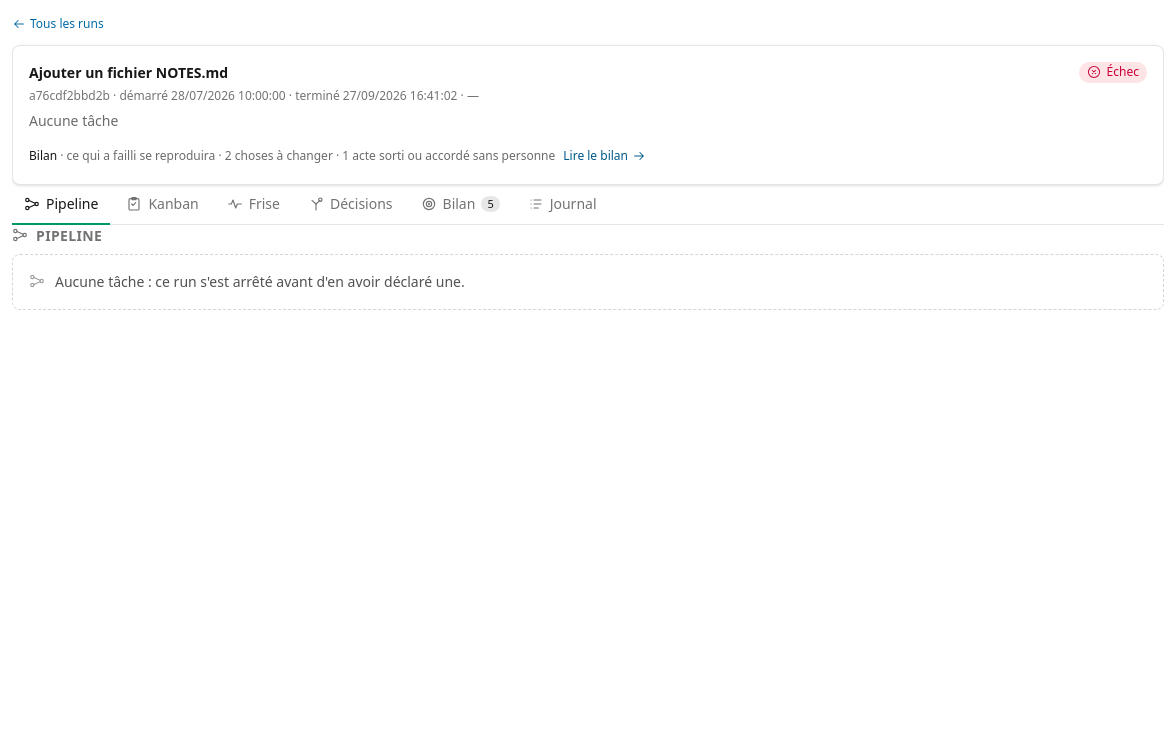
Test case: la tête d'un run soldé › mène à l'onglet du bilan, qui porte son compte, puis retire le renvoi
Click the button "Lire le bilan" at (605,156), box [563,144,646,168]
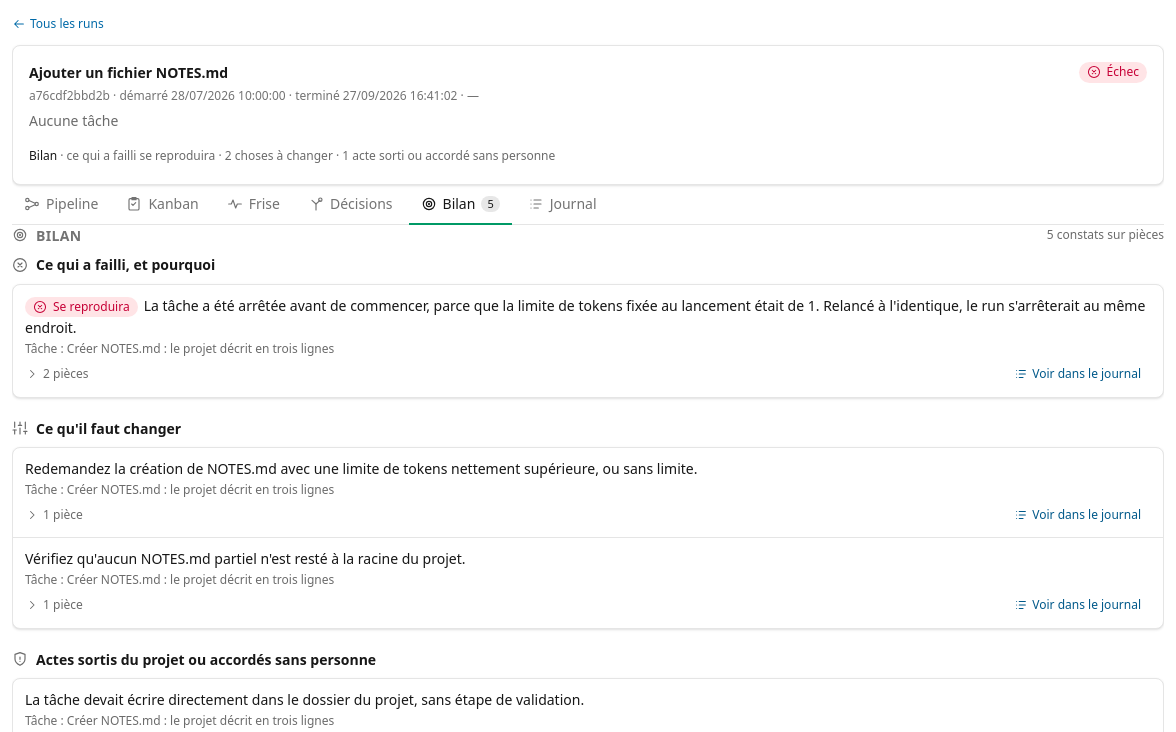
expect the button "Lire le bilan" is gone: met
Le pipeline reste la lecture d'ouverture : on y revient d'un onglet.
Click the button "Pipeline" at (61,205), box [12,185,110,225]
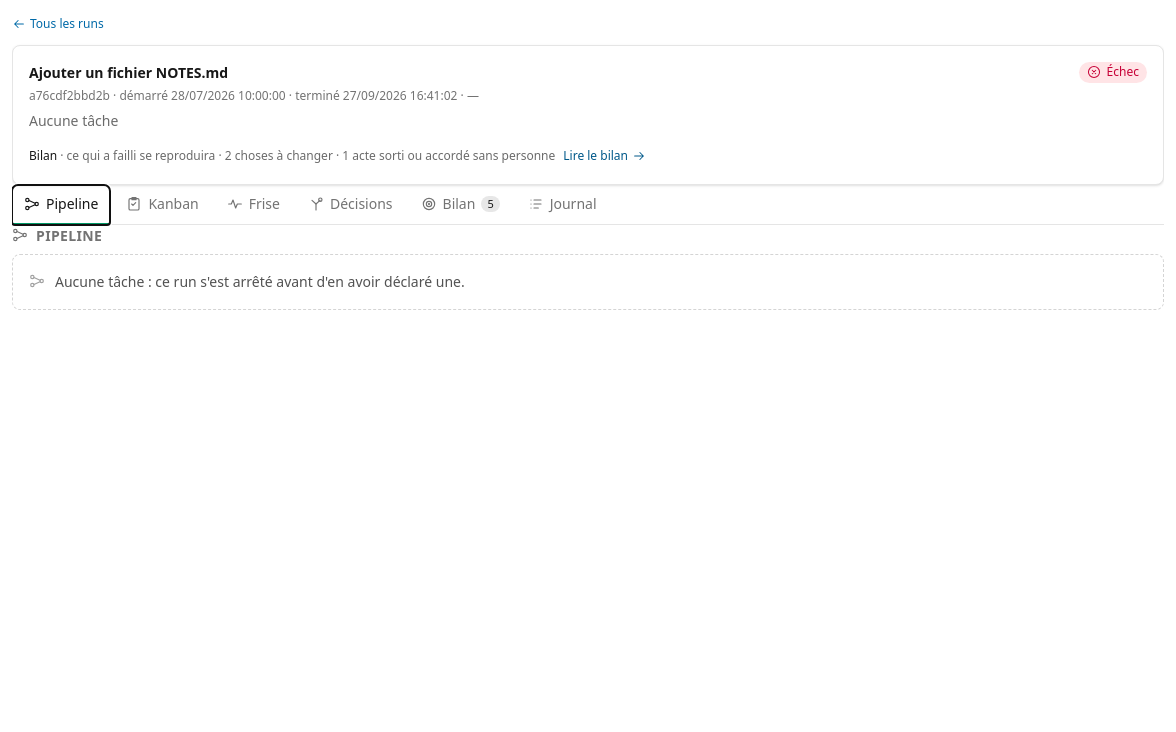
expect the button "Lire le bilan" is shown: met, box [563,144,646,168]
